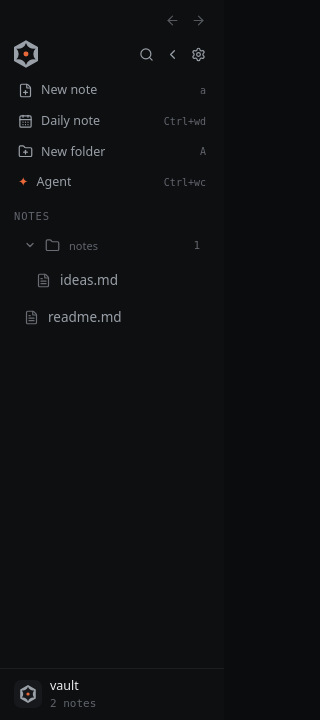
it: SidebarContextMenu › shows only the creation rows on the tree background
Right-click the element "notes" at x=112, y=282, box [24,238,200,326]
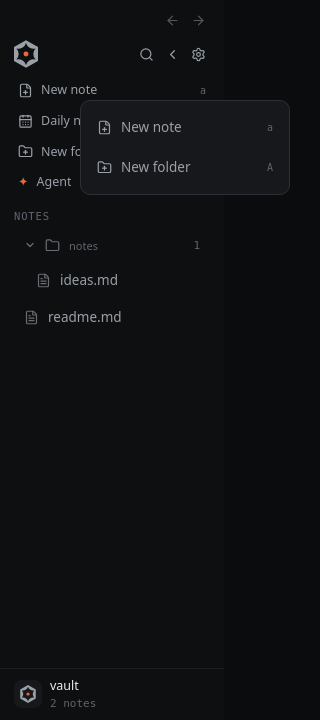
Result: the number of menu items is 2 at [97,118,273,136]; [97,158,273,176]
Result: the menu item "New note a" is shown at [97,118,273,136]
Result: the menu item "New folder A" is shown at [97,158,273,176]
